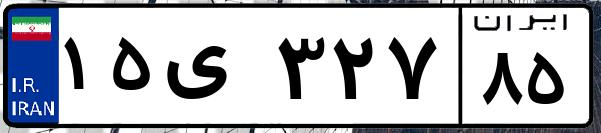1: (57, 26, 110, 100)
2: (330, 28, 385, 110)
3: (270, 28, 330, 110)
5: (525, 38, 570, 115), (110, 28, 158, 98)
7: (385, 28, 445, 110)
8: (475, 38, 525, 113)
ی: (158, 20, 270, 120)
